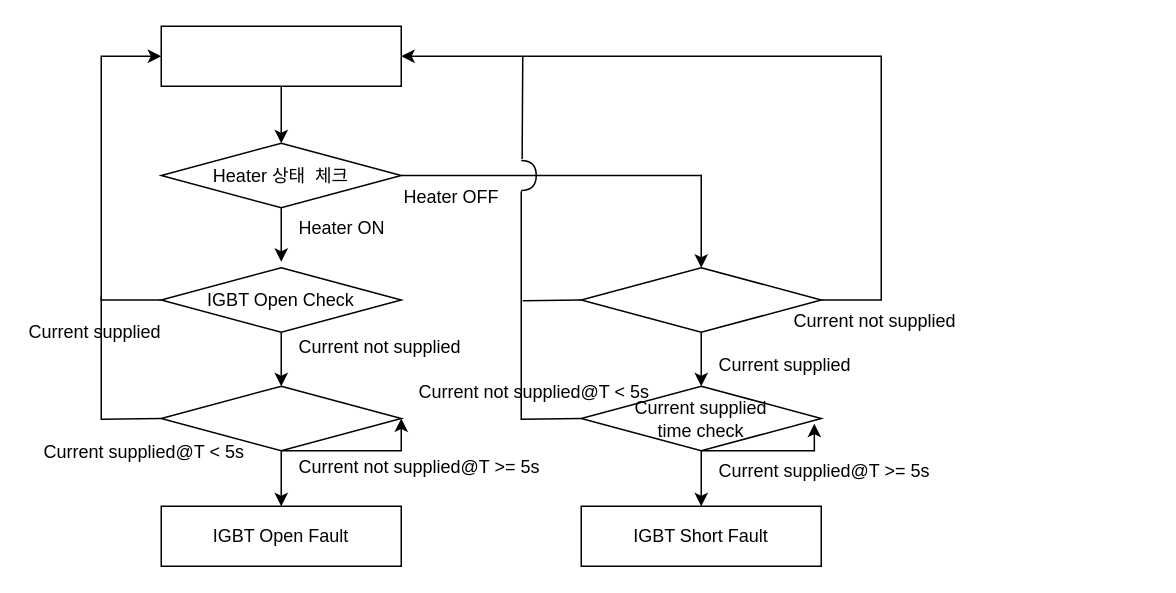
The diagram is 1176 pixels wide and 593 high, and some of its shapes have lost their labels. The shapes that lost their labels are listed below. From the top down, each one's centre as x and y in pixels, then its label:
At (280,55): "고장 진단 로직 진입".
At (700,299): "IGBT Short Check".
At (280,418): "Current not supplied time check".
